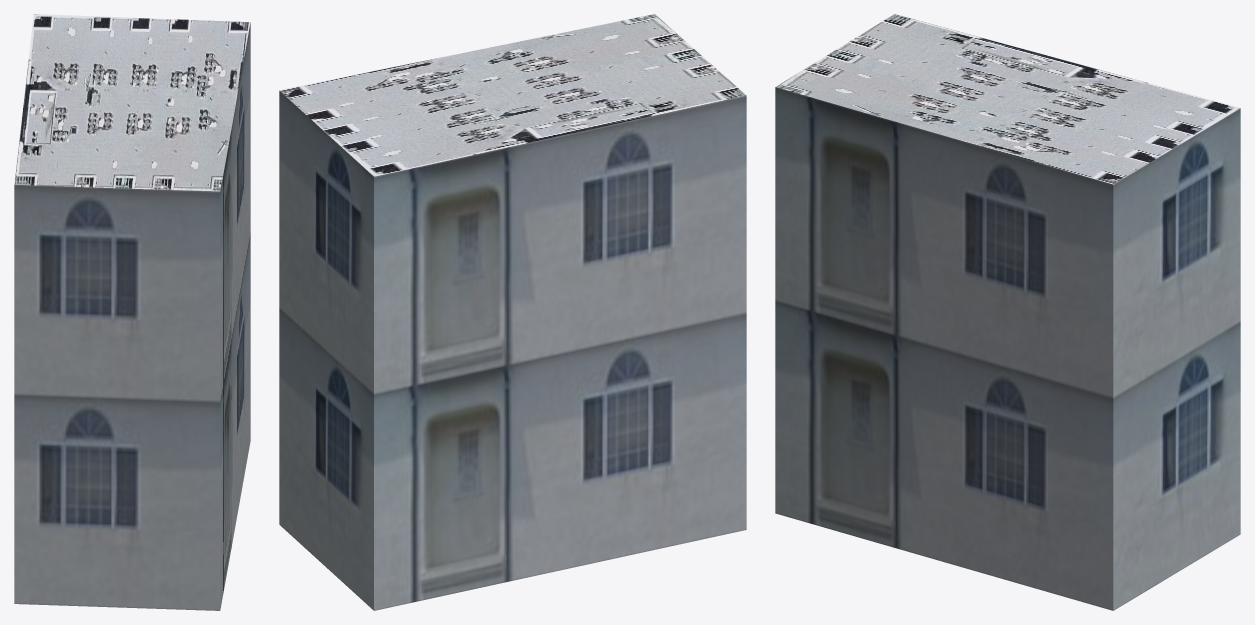
Rendered from ResTex__1839.fbx.
The picture shows the model from 3 angles, left to right: view 1: azimuth 30°, elevation 25°; view 2: azimuth 150°, elevation 25°; view 3: azimuth 270°, elevation 25°; orthographic projection. The views are drawn at different scales.
Visible parts, largest first — view 1: CityEngineMaterial_17_m, CityEngineMaterial_m; view 2: CityEngineMaterial_17_m, CityEngineMaterial_m; view 3: CityEngineMaterial_17_m, CityEngineMaterial_m.
Part boxes in pixels (left/top/right/bottom): CityEngineMaterial_17_m: left=14, top=23, right=250, bottom=610; CityEngineMaterial_m: left=14, top=14, right=250, bottom=191; CityEngineMaterial_17_m: left=279, top=91, right=746, bottom=610; CityEngineMaterial_m: left=279, top=14, right=746, bottom=176; CityEngineMaterial_17_m: left=775, top=87, right=1240, bottom=610; CityEngineMaterial_m: left=776, top=14, right=1240, bottom=184.
Bounding box in the file's own units: 5.15 × 6 × 5.94.
2 materials, 2 textured.
